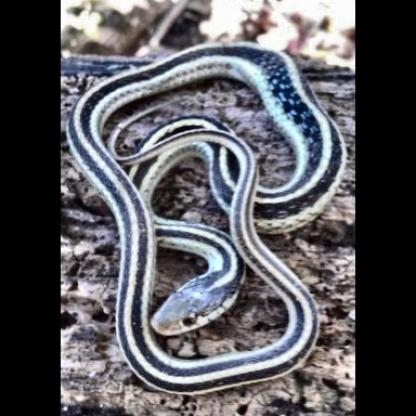Snake: (66, 36, 345, 396)
